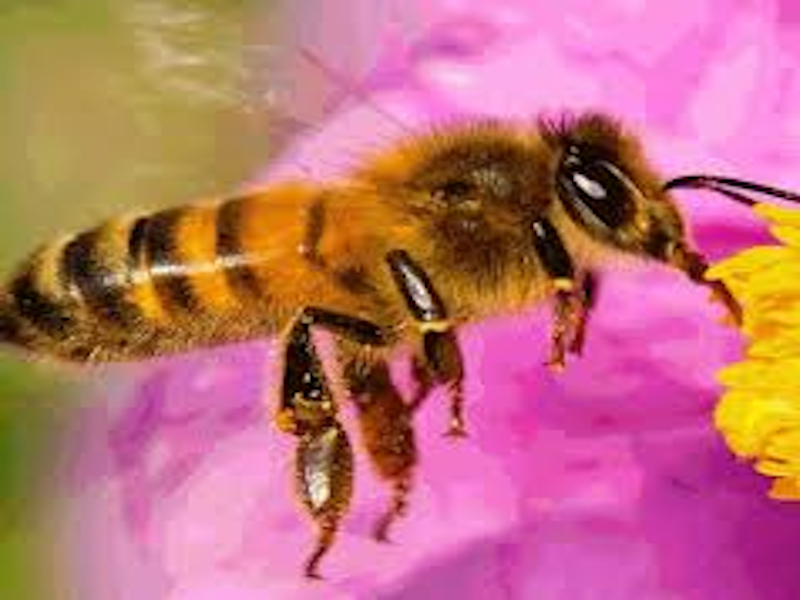abeja: (1, 93, 792, 573)
